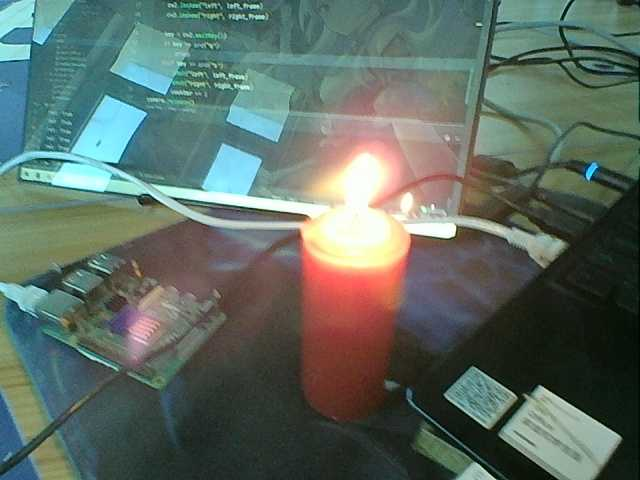candle: (297, 257, 400, 427)
fire: (329, 156, 388, 244)
